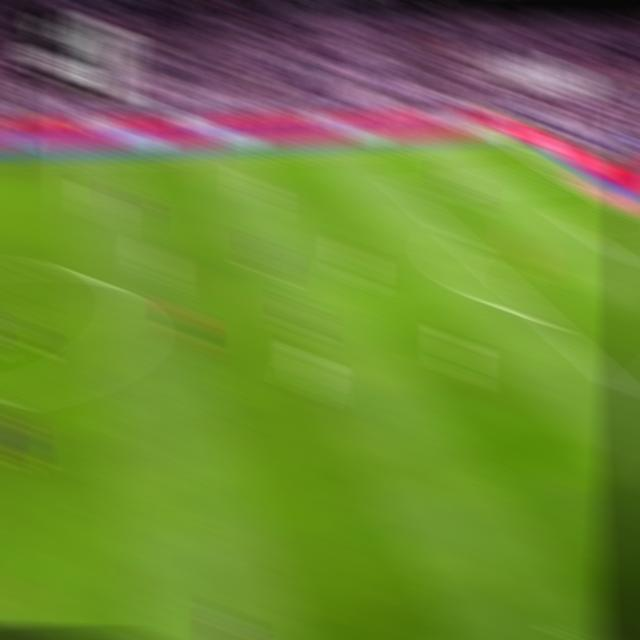bigarea_top_inner: (391, 177, 417, 200)
bigarea_top_outter: (547, 165, 574, 186)
bottom_arc_area_intersection: (529, 305, 560, 331)
corner: (485, 126, 513, 145)
smallarea_top_inner: (561, 214, 584, 231)
top_arc_area_intersection: (445, 228, 473, 251)
